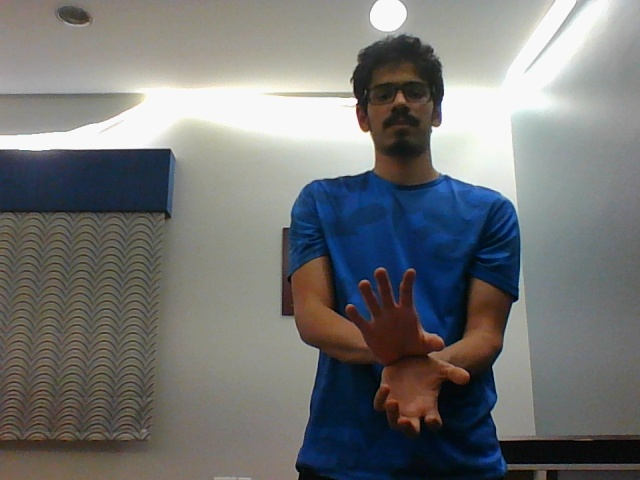blast: (338, 266, 471, 441)
